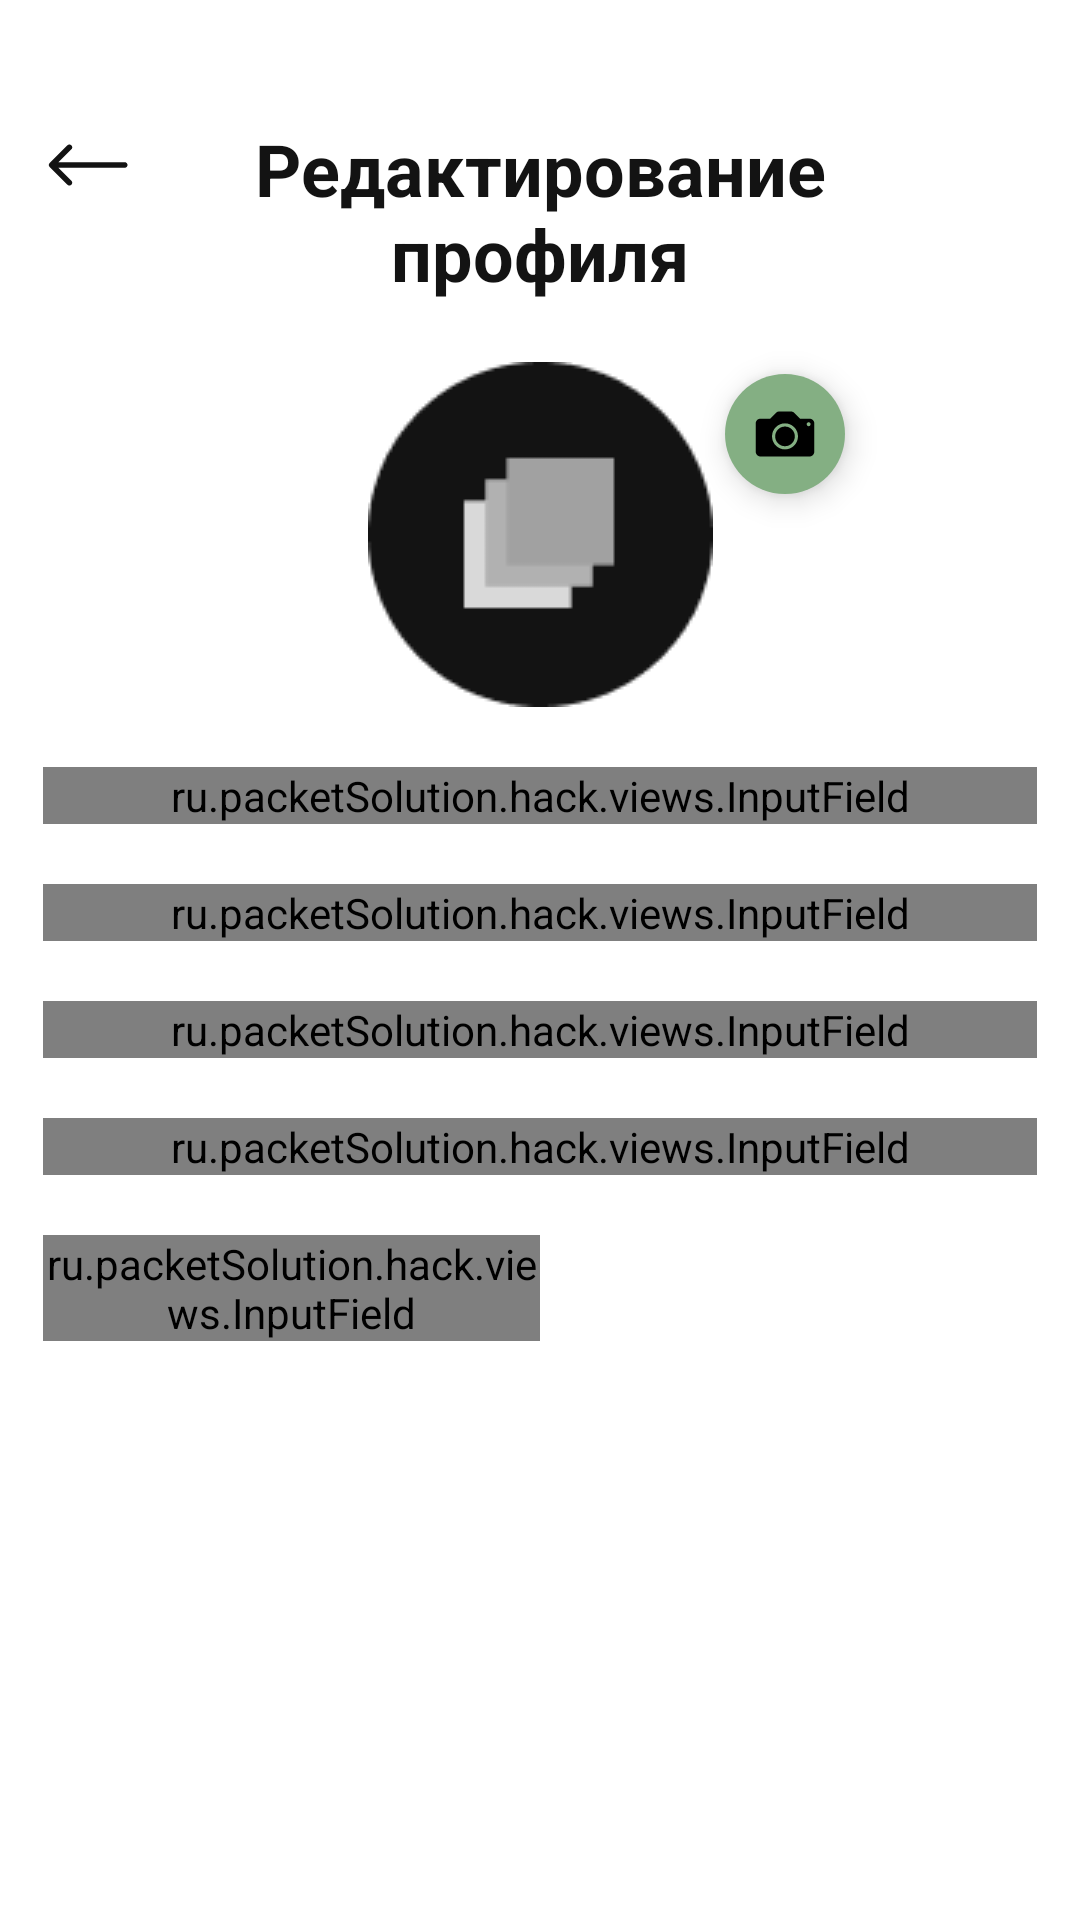

Screen size 1080*1920. Icon name, then its center in pixels as (x,y):
camera: (785,435)
